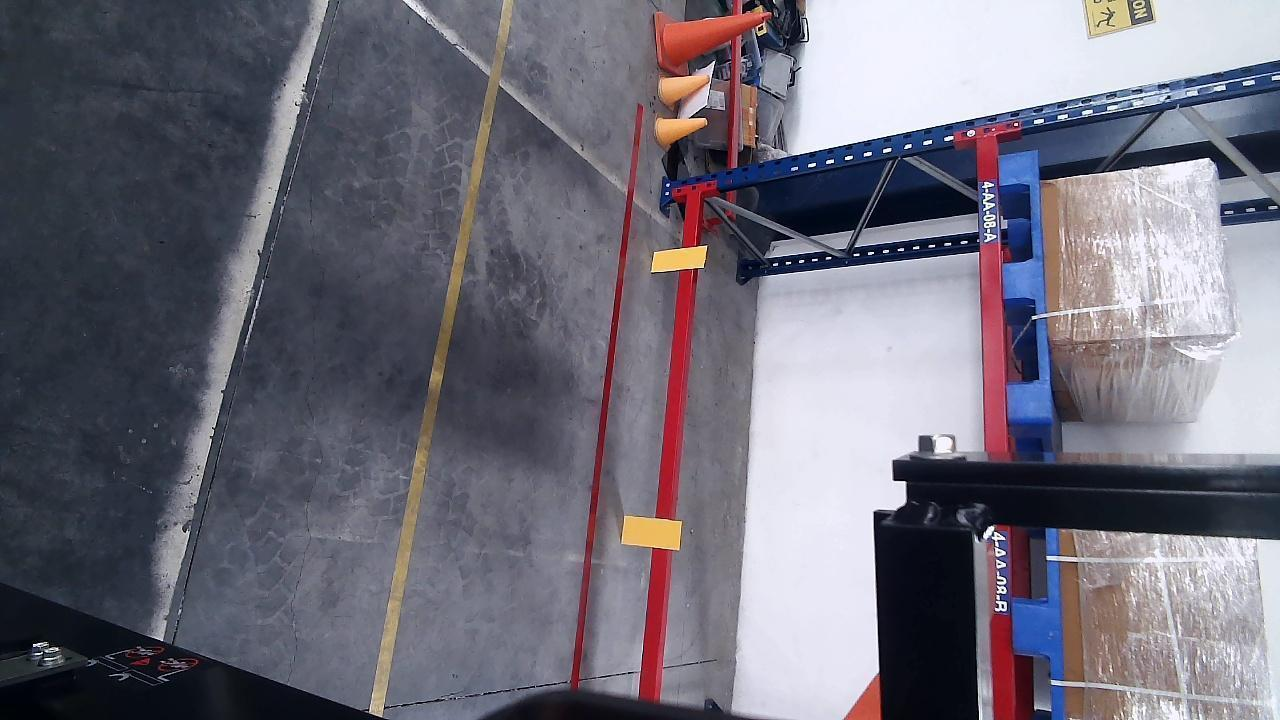red_line: (568, 103, 648, 684)
yellow_line: (368, 0, 514, 717)
